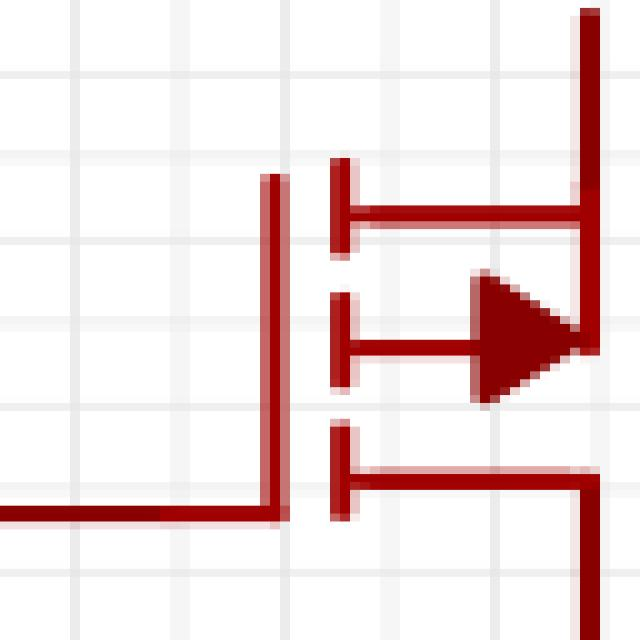pmos: (27, 29, 640, 639)
